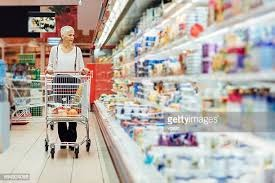with_basket: (42, 69, 91, 162)
without_mask: (60, 23, 75, 46)
